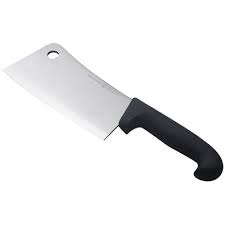knife: (1, 42, 225, 183)
